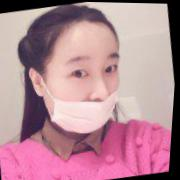WRONG: (37, 47, 129, 136)
